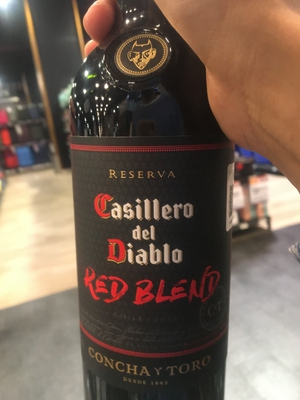casillero del diablo red blend: (68, 21, 234, 400)
